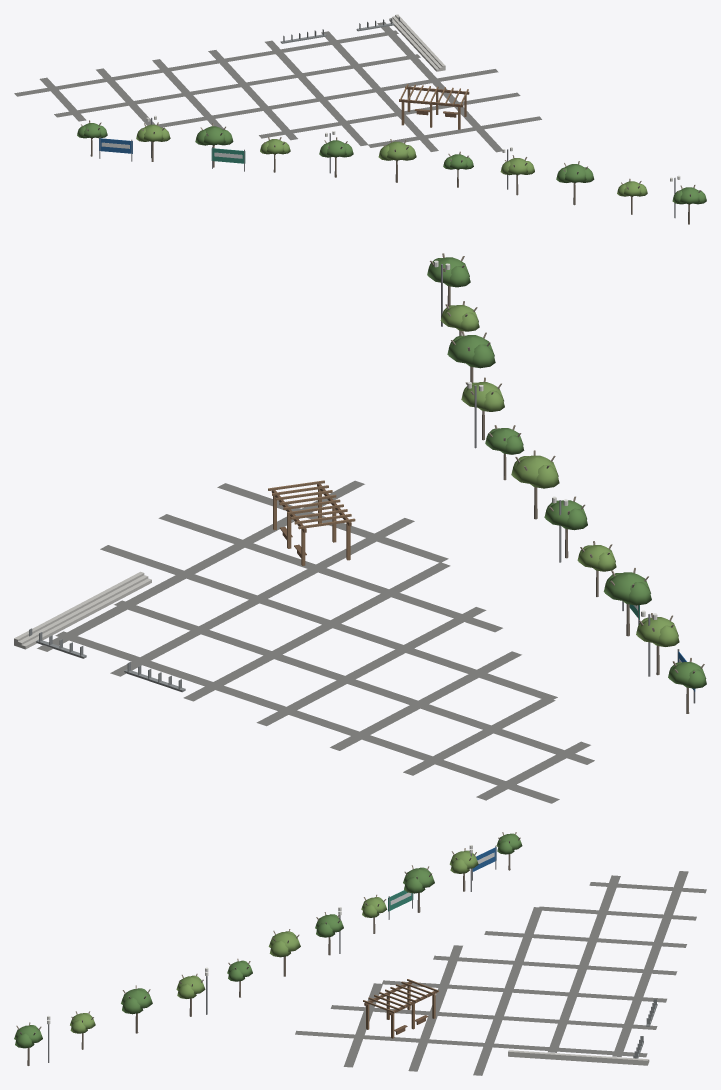
3 renders of one model, top to bottom at view 1: azimuth 30°, elevation 25°; view 2: azimuth 150°, elevation 25°; view 3: azimuth 270°, elevation 25°, orthographic. The views are drawn at different scales.
Parts seen in each view (by area): view 1: gong2-garden__stripe, gong2-garden__leaf, gong2-garden__leaf-light, gong2-garden__stair-tread, gong2-garden__wood, gong2-garden__wood-dark, gong2-garden__trunk, gong2-garden__rack, gong2-garden__sign-green, gong2-garden__sign-blue, gong2-garden__branch; view 2: gong2-garden__stripe, gong2-garden__leaf, gong2-garden__leaf-light, gong2-garden__wood, gong2-garden__stair-tread, gong2-garden__trunk, gong2-garden__rack; view 3: gong2-garden__stripe, gong2-garden__leaf, gong2-garden__leaf-light, gong2-garden__wood, gong2-garden__stair-tread, gong2-garden__trunk, gong2-garden__wood-dark.
Part boxes in pixels (x1,y1,x2,y2): gong2-garden__stripe: (14, 22, 541, 152); gong2-garden__leaf: (77, 123, 706, 204); gong2-garden__leaf-light: (136, 124, 647, 196); gong2-garden__stair-tread: (389, 14, 445, 71); gong2-garden__wood: (399, 84, 468, 129); gong2-garden__wood-dark: (399, 86, 469, 117); gong2-garden__trunk: (90, 139, 689, 224); gong2-garden__rack: (280, 17, 399, 43); gong2-garden__sign-green: (211, 148, 245, 163); gong2-garden__sign-blue: (99, 138, 132, 153); gong2-garden__branch: (81, 120, 700, 204); gong2-garden__stripe: (37, 480, 594, 803); gong2-garden__leaf: (427, 257, 706, 688); gong2-garden__leaf-light: (440, 305, 679, 646); gong2-garden__wood: (268, 480, 355, 565); gong2-garden__stair-tread: (14, 571, 151, 649); gong2-garden__trunk: (447, 286, 689, 713); gong2-garden__rack: (29, 628, 185, 692); gong2-garden__stripe: (295, 871, 706, 1075); gong2-garden__leaf: (14, 833, 522, 1048); gong2-garden__leaf-light: (70, 850, 478, 1033); gong2-garden__wood: (363, 979, 438, 1038); gong2-garden__stair-tread: (508, 1050, 649, 1065); gong2-garden__trunk: (27, 854, 510, 1065); gong2-garden__wood-dark: (364, 981, 437, 1034).
Size of the model in its own units: 48.6 by 5.08 by 66.68.
